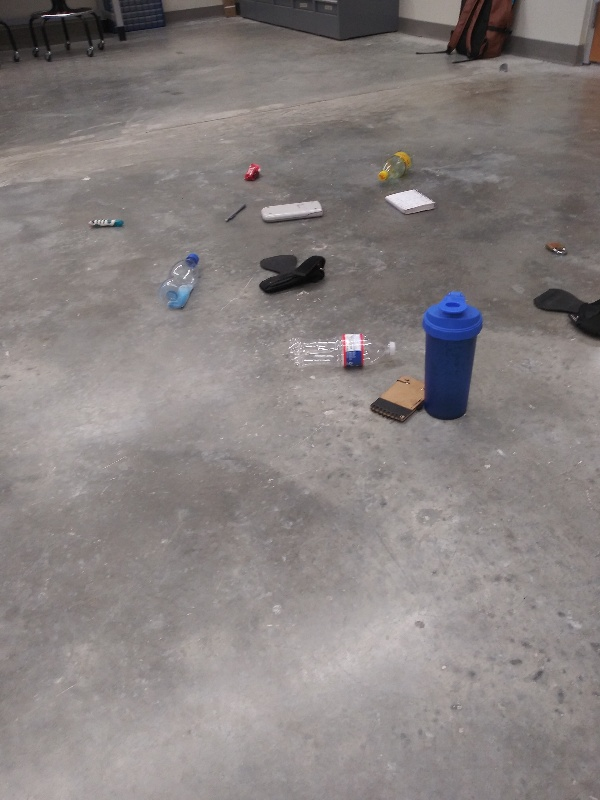bottle: (284, 331, 405, 376), (159, 252, 206, 312), (376, 145, 420, 188)
